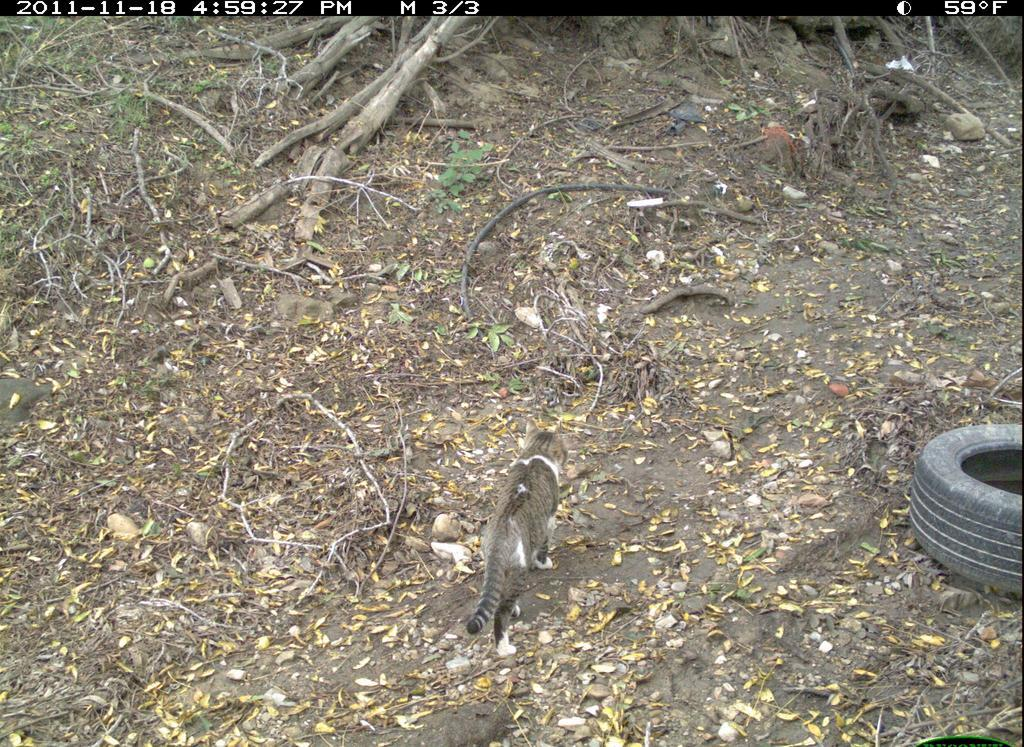cat: (455, 391, 596, 670)
